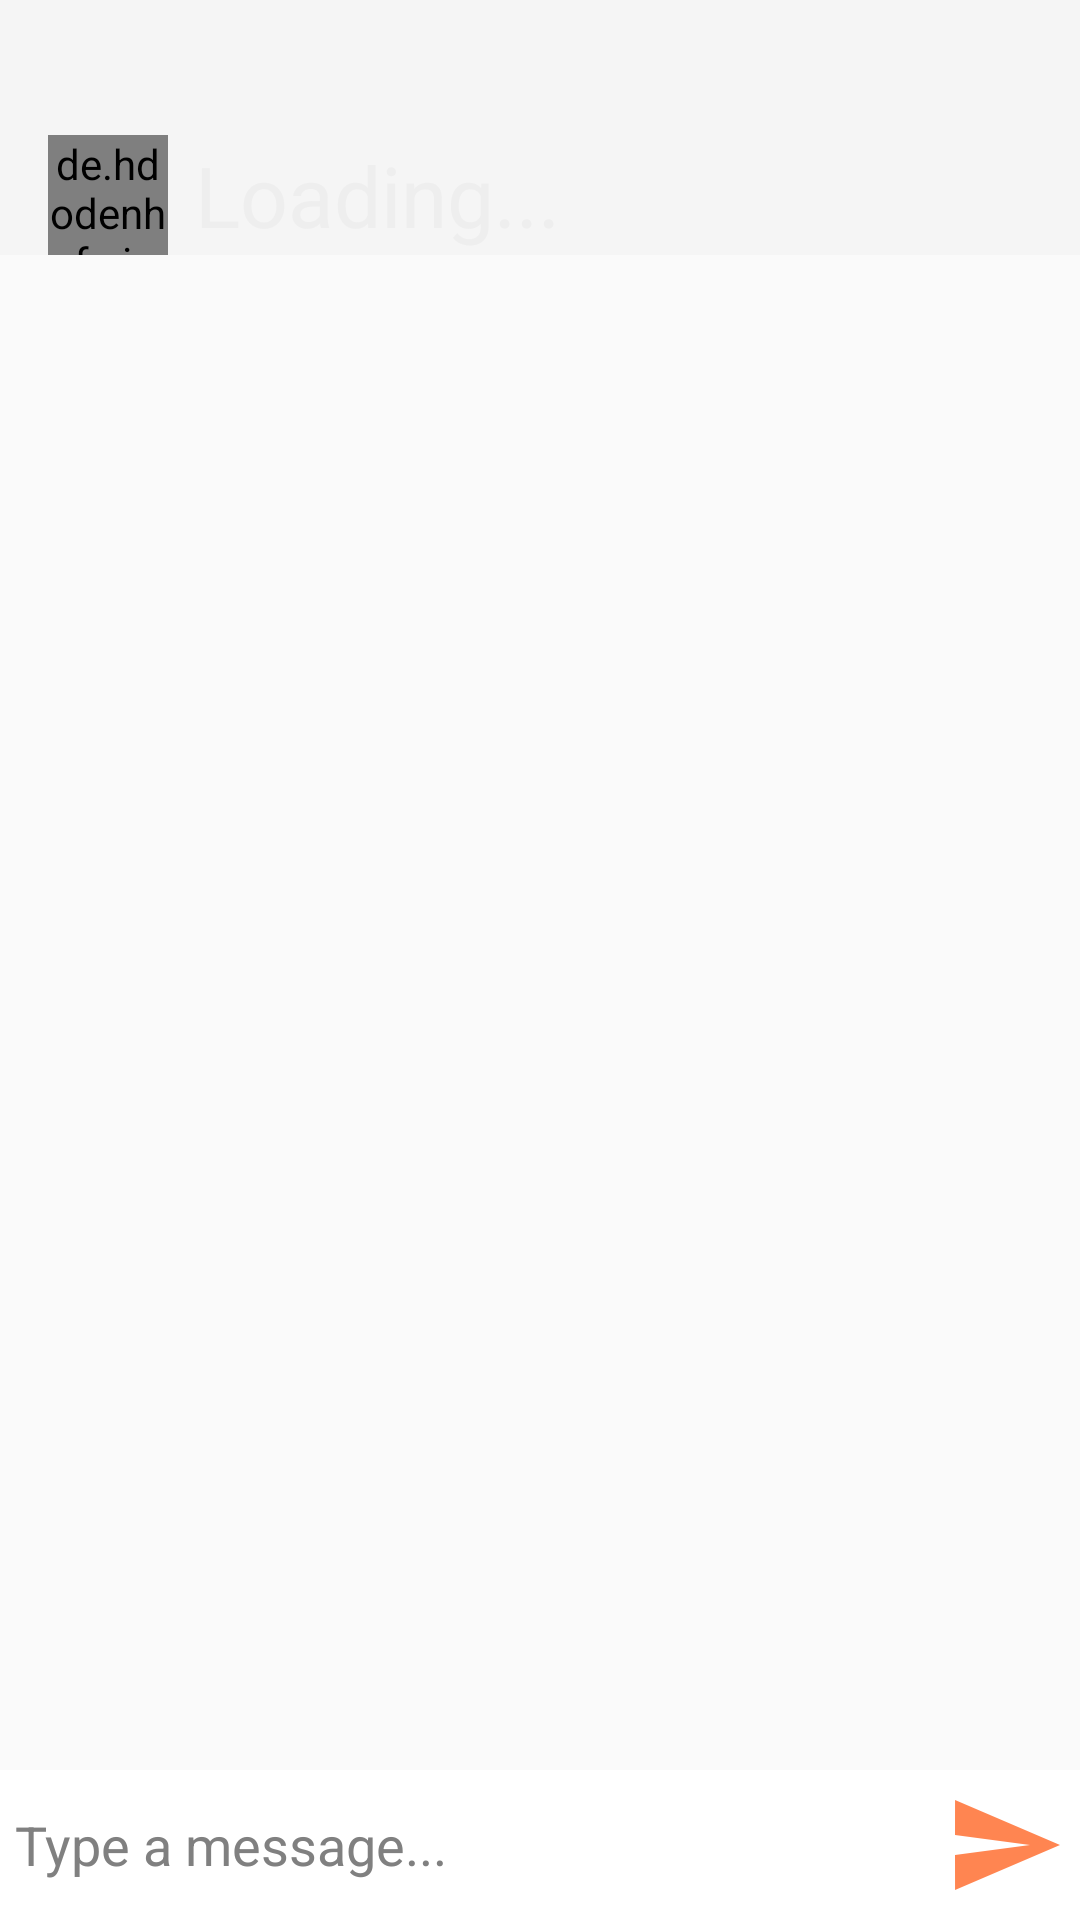

Locate icon controls on the screen. Image size 1080×1920, boxes as detection(x1, y1, x2, y2).
send arrow: detection(955, 1800, 1060, 1890)
